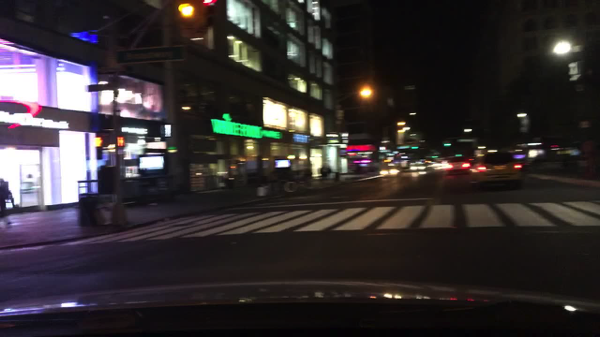car: (468, 150, 523, 191), (437, 155, 471, 176), (380, 163, 401, 178), (407, 157, 426, 172), (387, 159, 410, 169), (473, 148, 488, 163), (424, 162, 442, 173), (466, 157, 475, 166), (423, 158, 432, 165)
person: (0, 177, 19, 229)
traffic light: (176, 1, 195, 19), (95, 132, 110, 150), (201, 0, 217, 8), (117, 136, 126, 147), (199, 228, 201, 236)
traffic sign: (114, 44, 187, 66), (87, 83, 111, 93)
